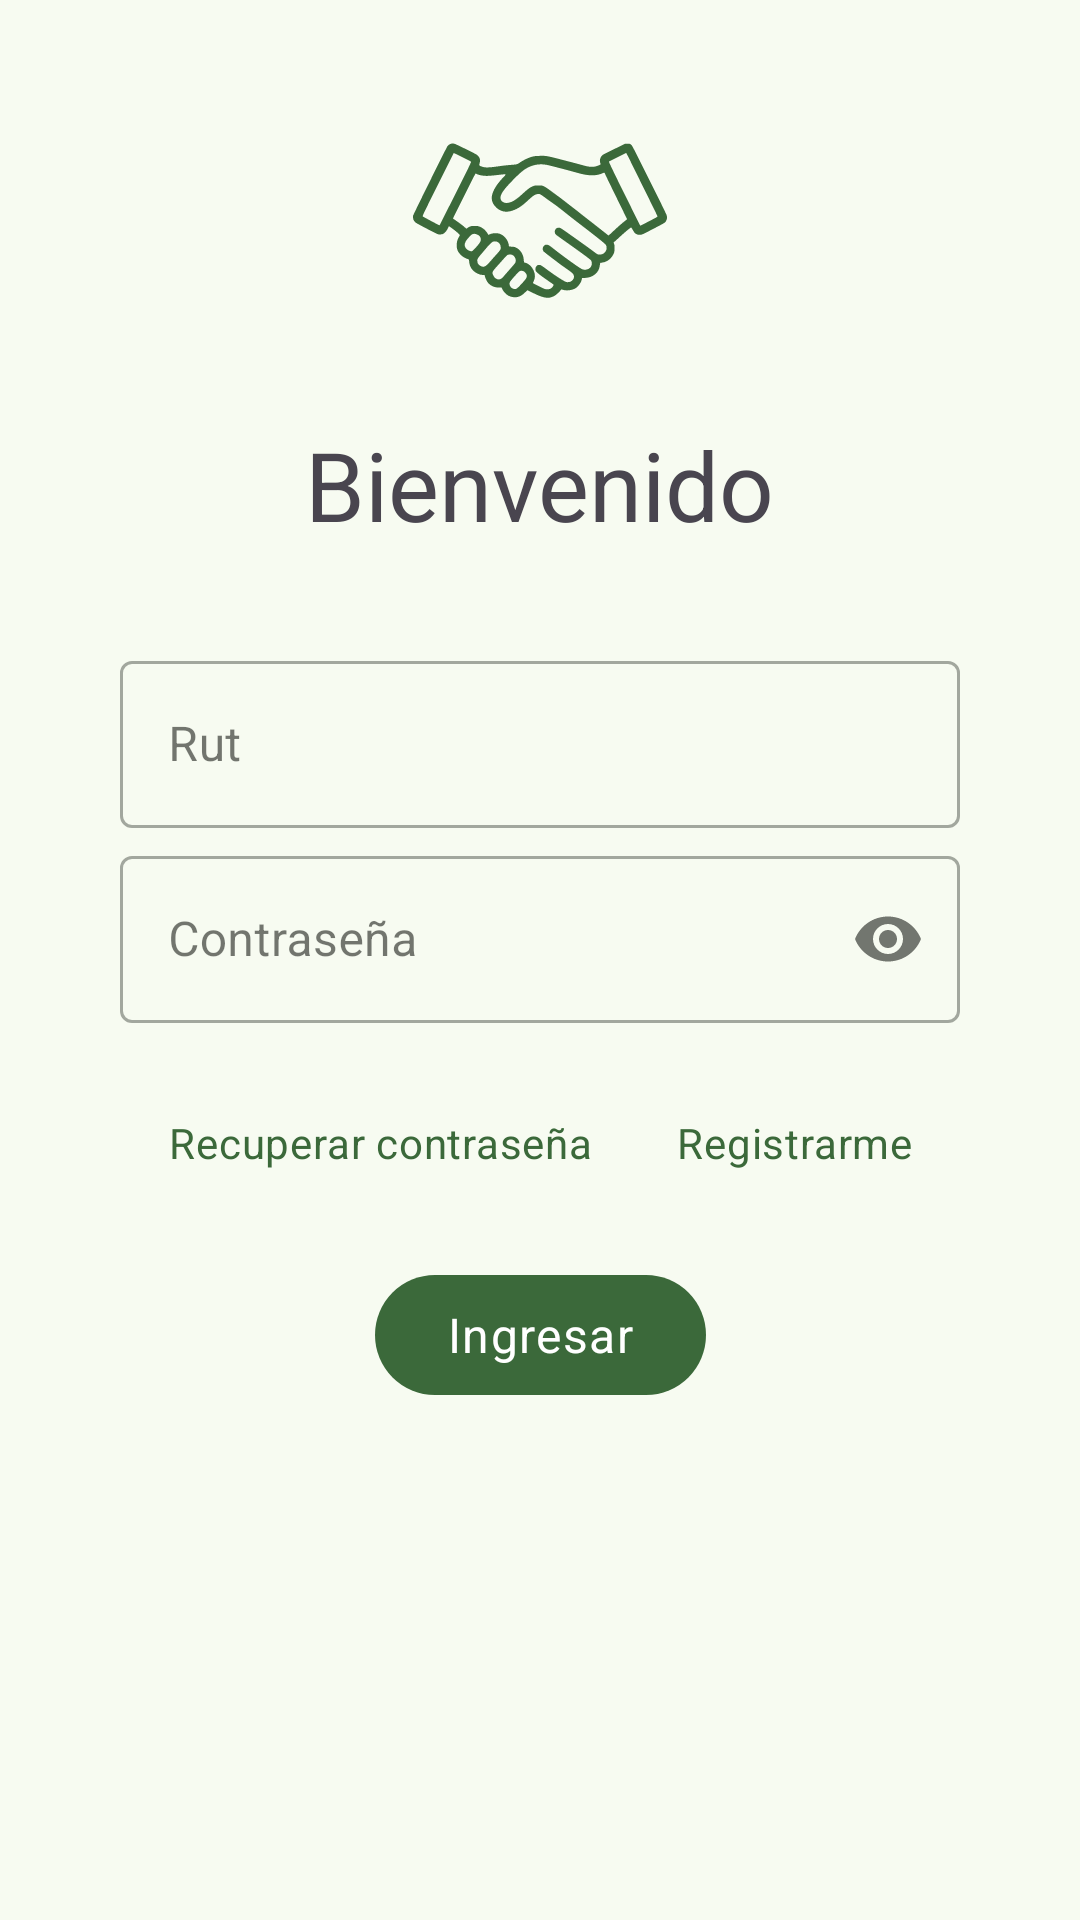

Icon bounding boxes for this 1080*1920 phone screenshot, format (x1, y1, x2, y2):
labor forum: (413, 143, 667, 298)
